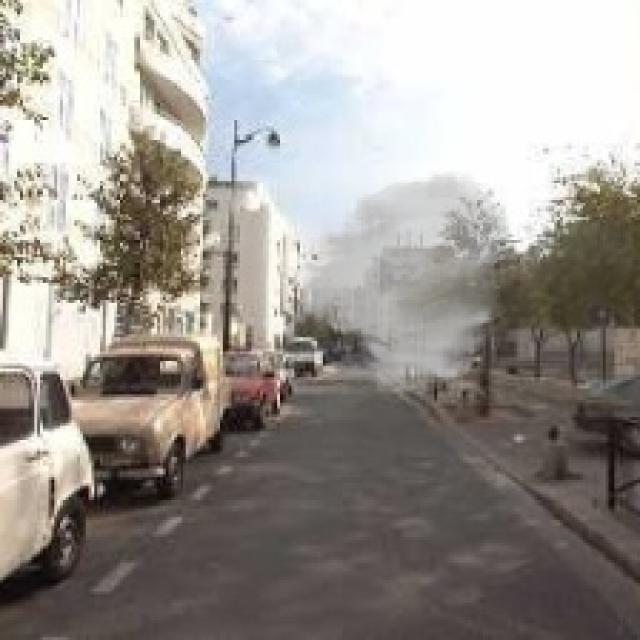smoke: (289, 169, 514, 397)
